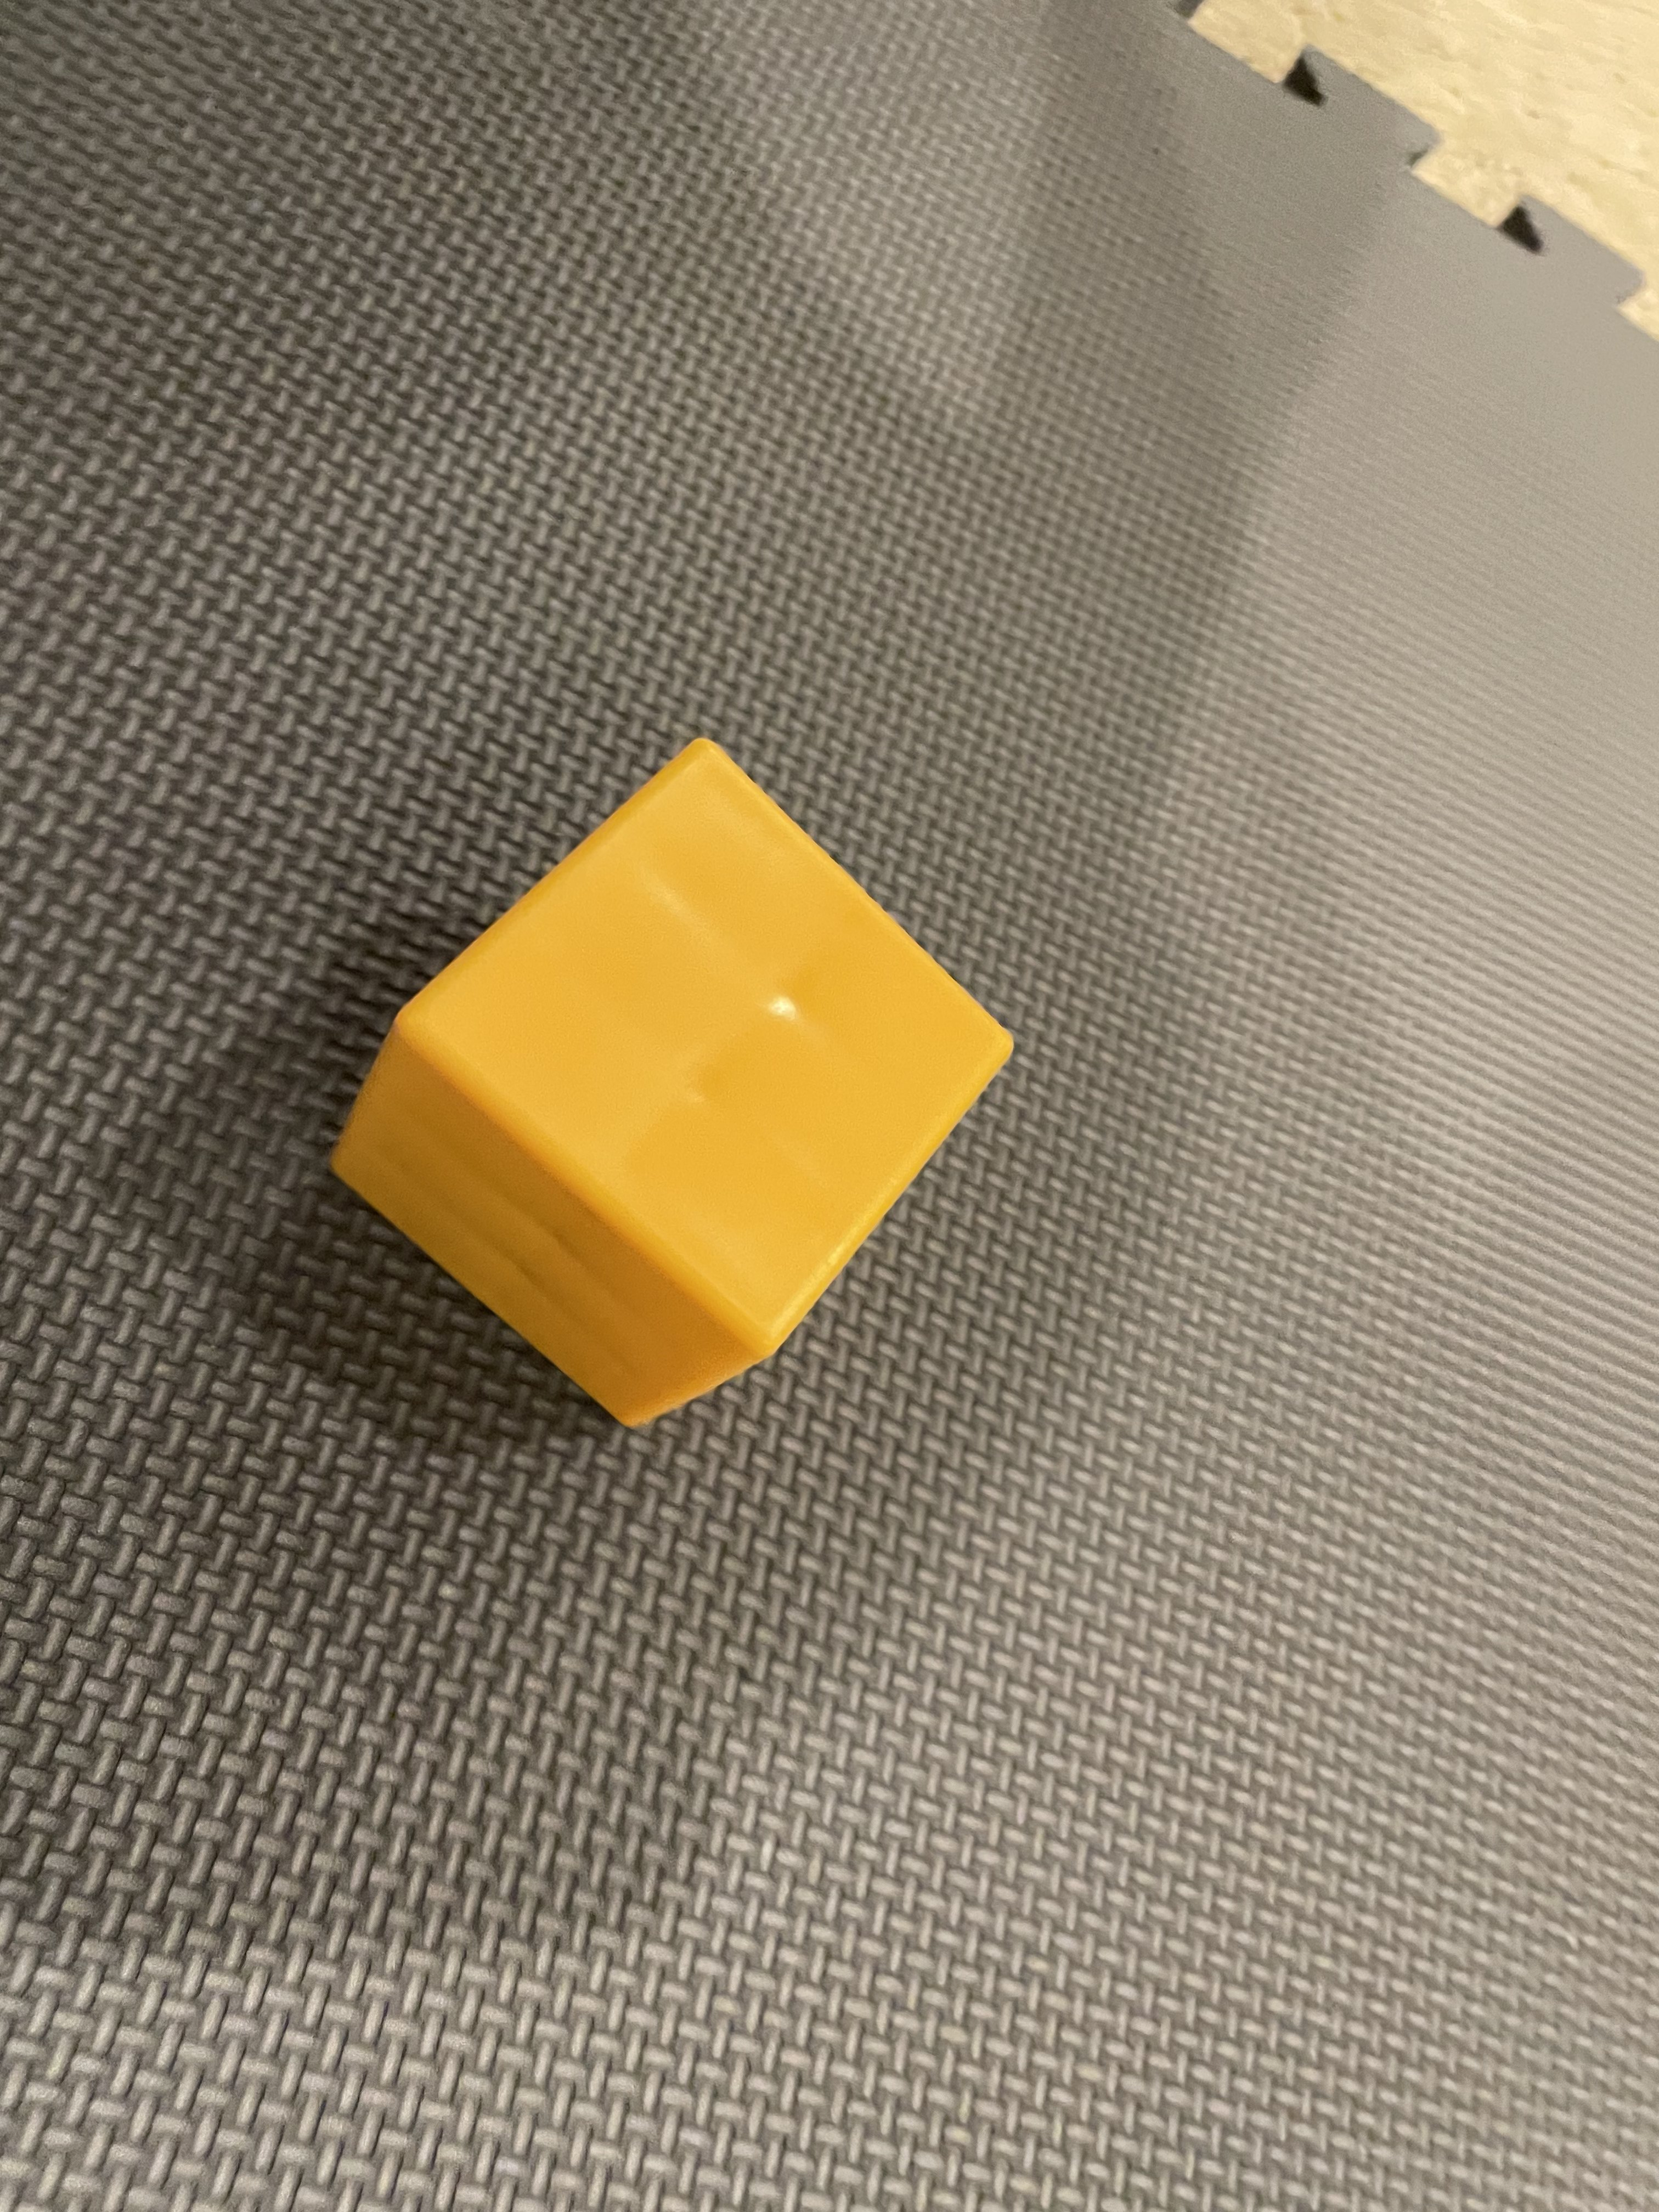cube: (270, 669, 1070, 1559)
